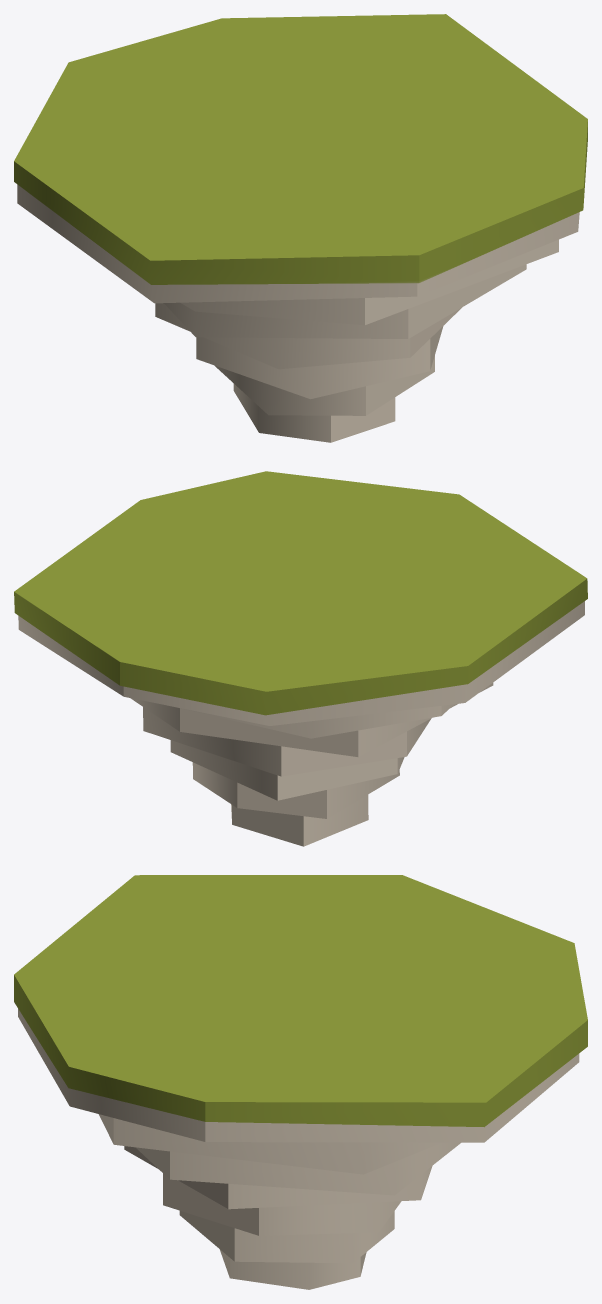
File: floor4.fbx
3 renders of one model, top to bottom at view 1: azimuth 30°, elevation 25°; view 2: azimuth 150°, elevation 25°; view 3: azimuth 270°, elevation 25°, orthographic. The views are drawn at different scales.
Visible parts, largest first — view 1: pCube9; view 2: pCube9; view 3: pCube9.
Boxes of the visible parts, box(x1,y1,x2,y2) form: pCube9: box(14, 14, 587, 442); pCube9: box(14, 471, 587, 846); pCube9: box(14, 875, 587, 1289).
Size of the model in its own units: 5.31 by 2.86 by 5.66.
Materials: 1 (1 with a texture image).
